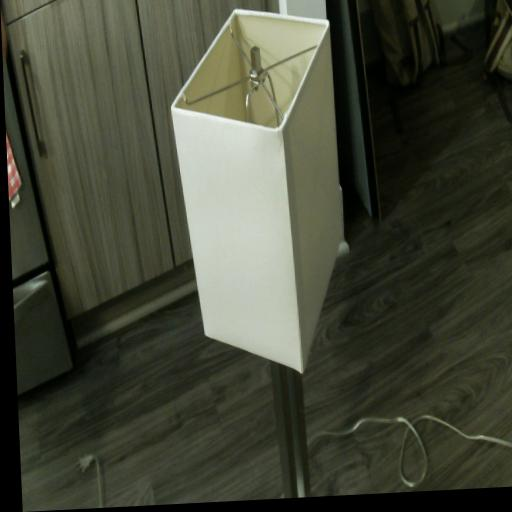lamp: (166, 2, 355, 503)
